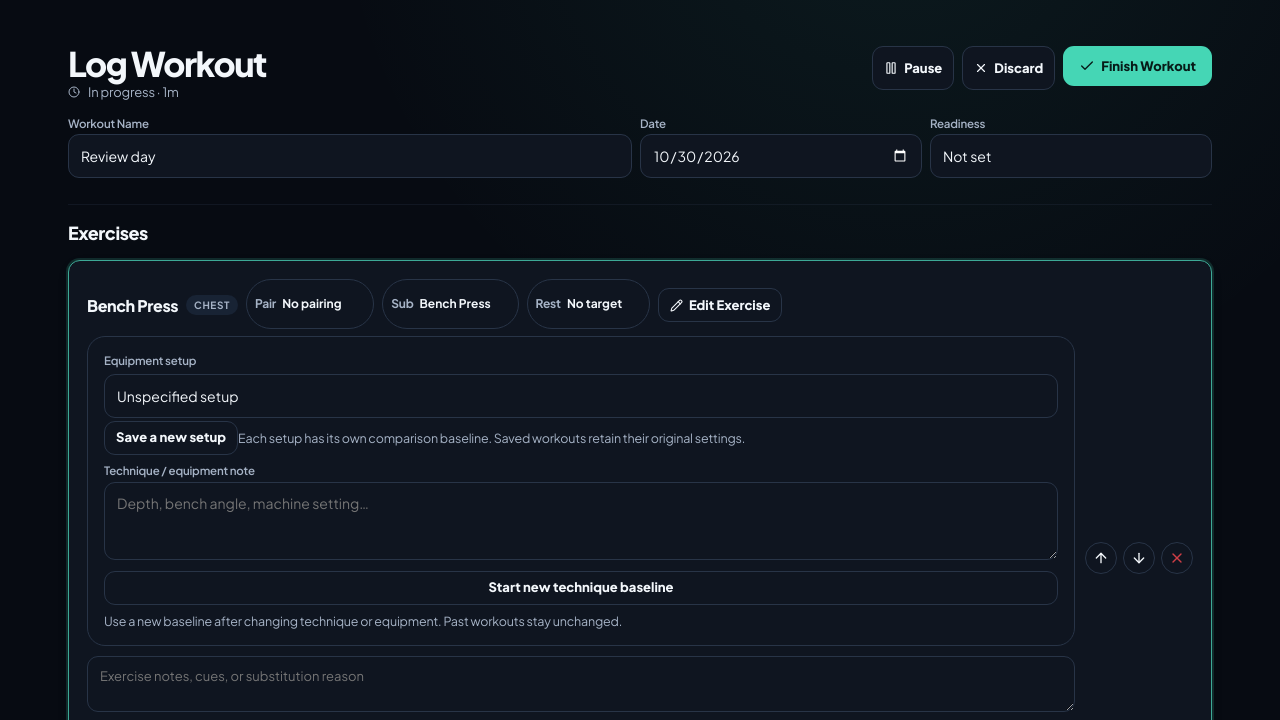
Test: workout finish review › does not write a workout to a different account after an interrupted PB save
This screenshot has width=1280, height=720.
Click the button "Finish Workout".
click(1138, 66)  # box top-left (1063, 46), bottom-right (1212, 86)
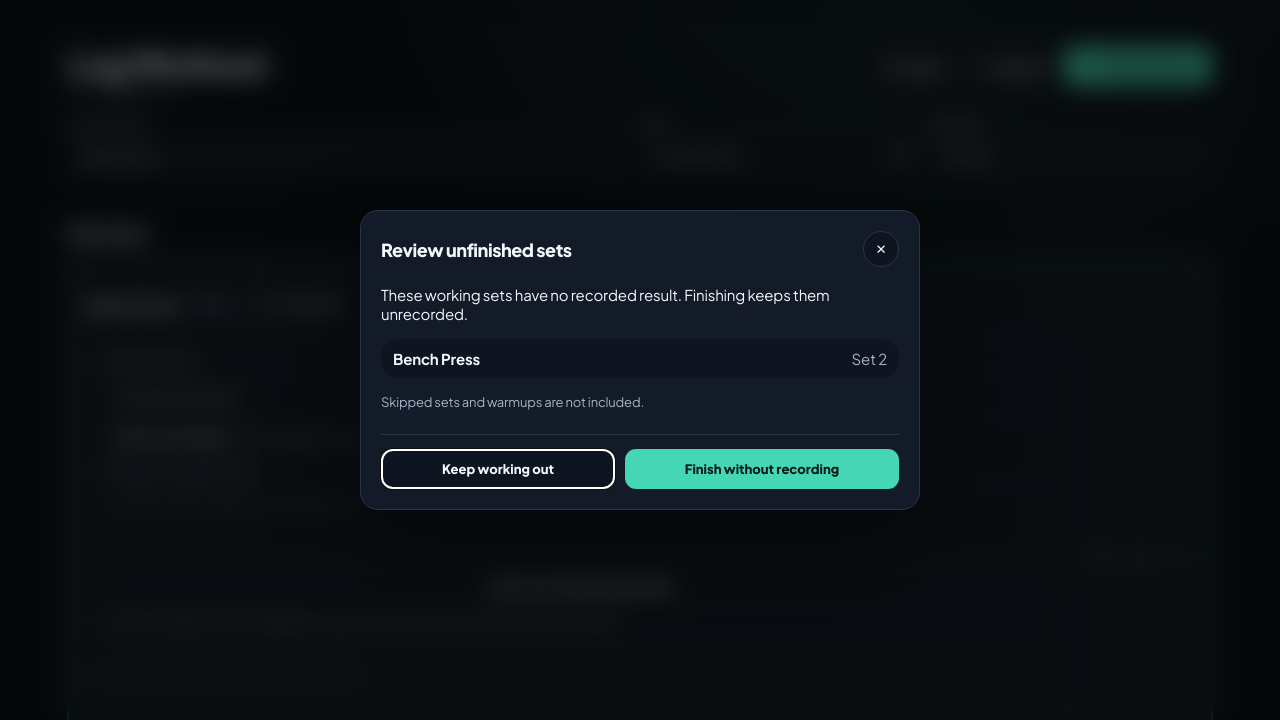
Click the button "Finish without recording".
click(762, 469)  # box top-left (625, 449), bottom-right (899, 489)
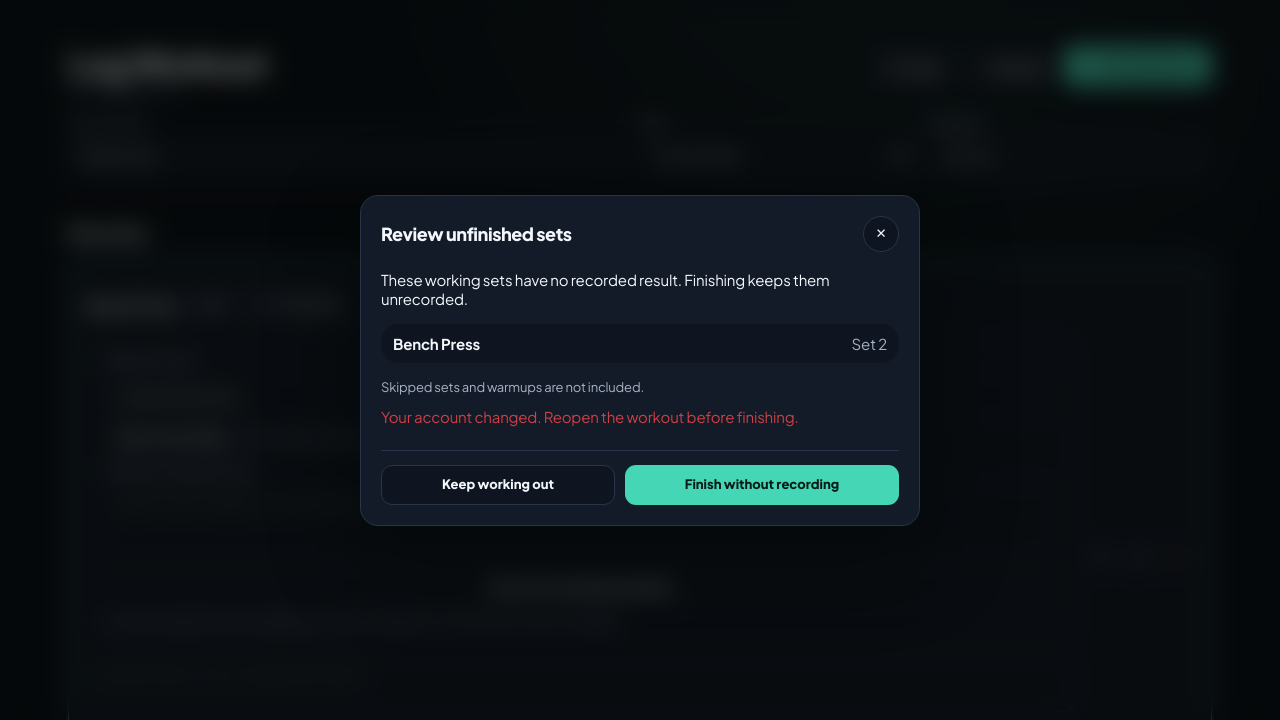
Result: the message shows "account changed" at top-left (381, 406), bottom-right (799, 426)
